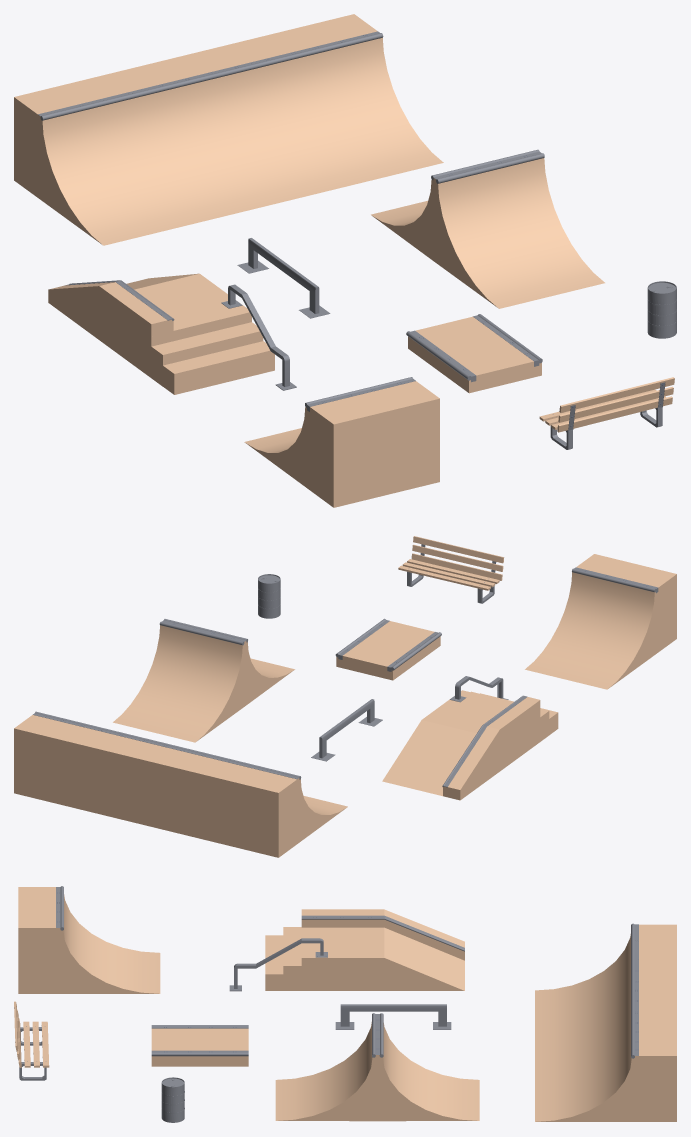
The model's file is prop_skatepark.glb.
3 renders of one model, top to bottom at view 1: azimuth 30°, elevation 25°; view 2: azimuth 150°, elevation 25°; view 3: azimuth 270°, elevation 25°, orthographic. The views are drawn at different scales.
Visible parts, largest first — view 1: Object_8, Object_3; view 2: Object_8, Object_3; view 3: Object_8, Object_3.
Boxes of the visible parts, x1,y1,x2,y2 form: Object_8: [14, 14, 674, 507]; Object_3: [38, 31, 676, 449]; Object_8: [14, 536, 676, 857]; Object_3: [33, 544, 658, 787]; Object_8: [14, 887, 676, 1121]; Object_3: [14, 886, 638, 1122].
Bounding box in the file's own units: 9.51 × 1.76 × 15.59.
